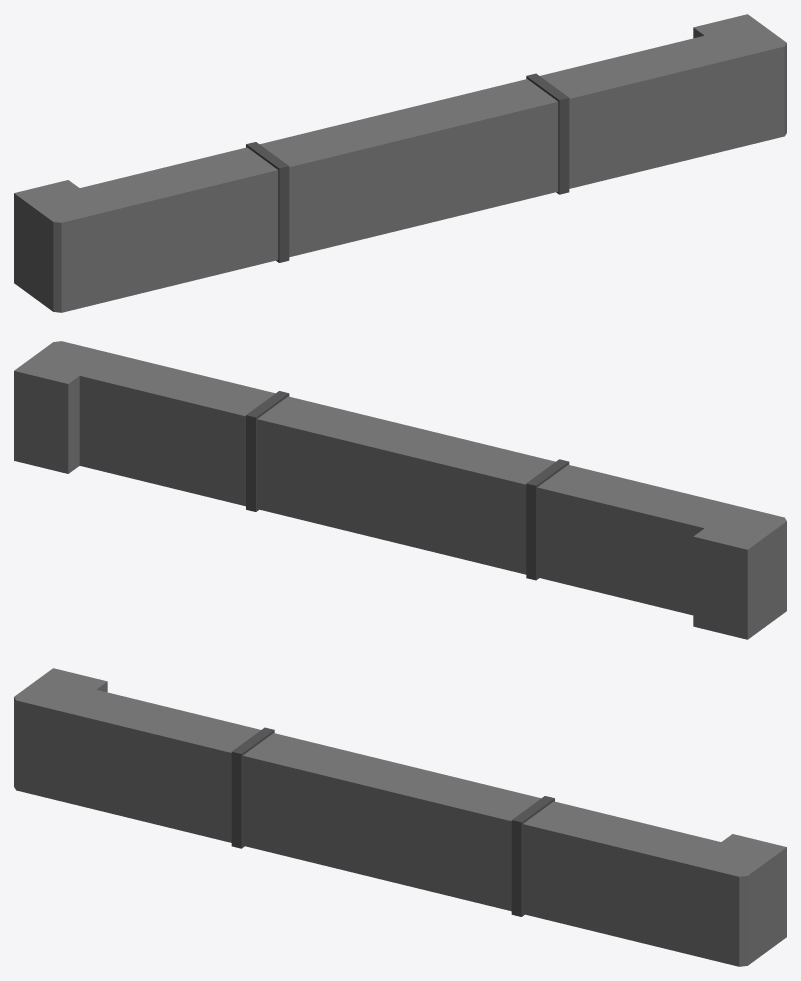
File: HousePart_04.fbx
3 views of the same model, one above another, from view 1: azimuth 30°, elevation 25°; view 2: azimuth 150°, elevation 25°; view 3: azimuth 330°, elevation 25° (orthographic).
Visible parts, largest first — view 1: HousePart_04; view 2: HousePart_04; view 3: HousePart_04.
Part boxes in pixels (bbox=[...]): HousePart_04: bbox=[14, 14, 786, 312]; HousePart_04: bbox=[14, 341, 786, 639]; HousePart_04: bbox=[14, 668, 786, 966].
Bounding box in the file's own units: 341 × 42.06 × 34.99.
